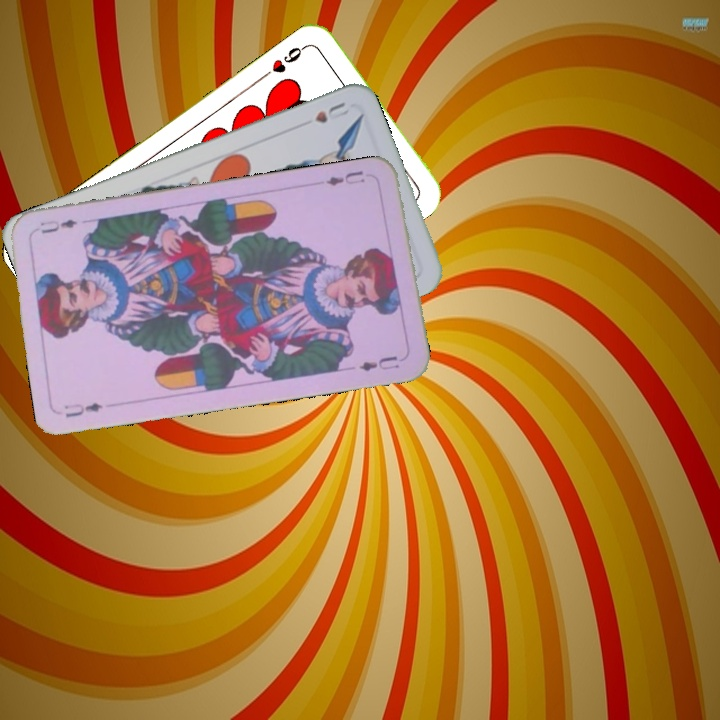EU: (322, 166, 367, 189), (60, 399, 105, 421)
H9: (259, 40, 311, 80)
HU: (310, 98, 352, 126)
